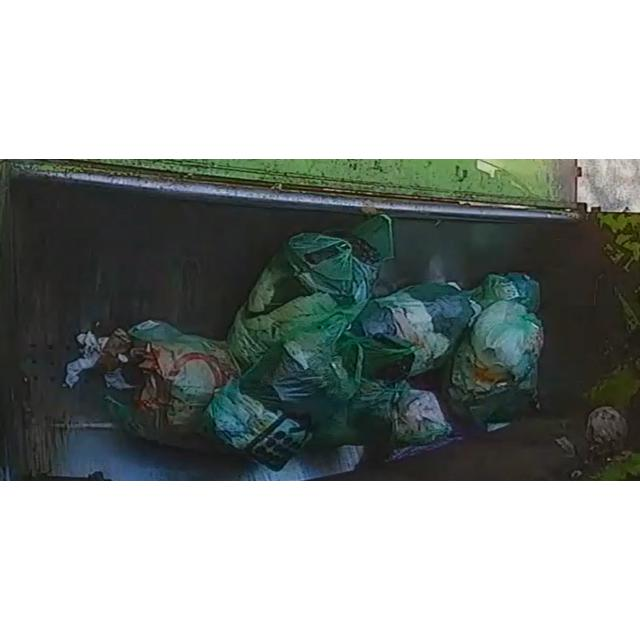general_trashbag: (65, 320, 240, 450), (208, 330, 359, 470), (228, 233, 384, 368), (449, 300, 544, 423), (312, 379, 454, 458), (359, 283, 474, 376)
